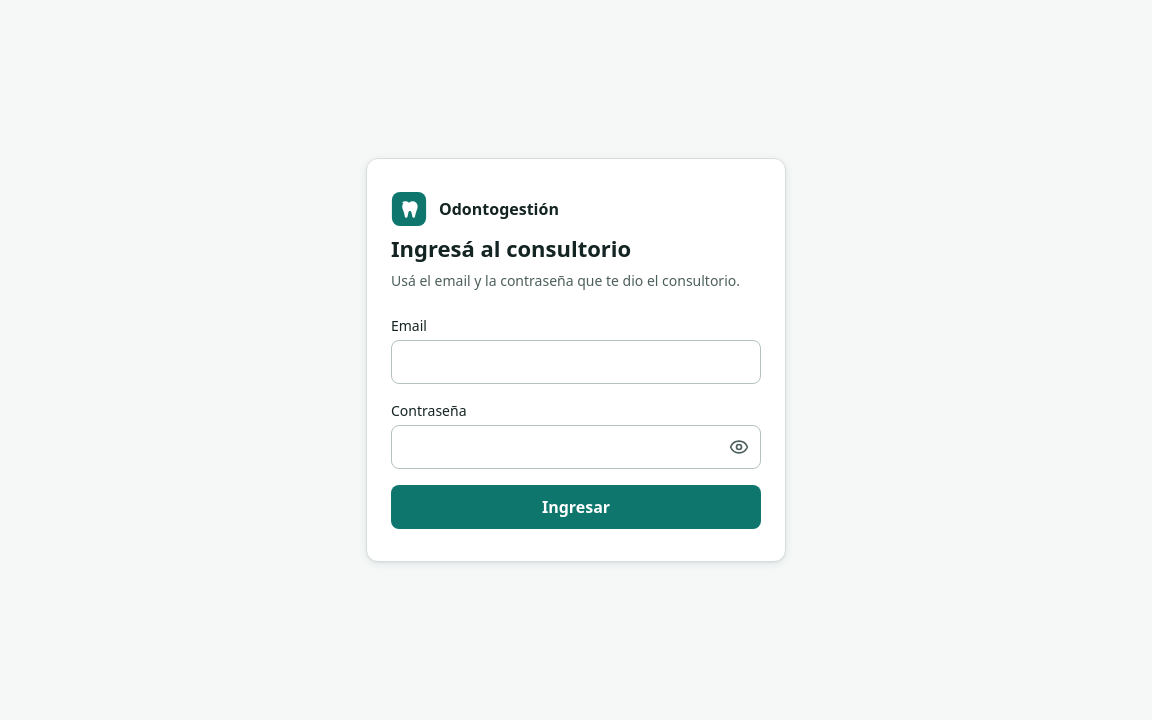
Test: sesion y guards › al ingresar vuelve a la ruta pedida
Type "dra.ficticia@consultorio.test" into the field labelled "Email".
click(576, 362); type("dra.ficticia@consultorio.test")  # box [391,340,761,384]
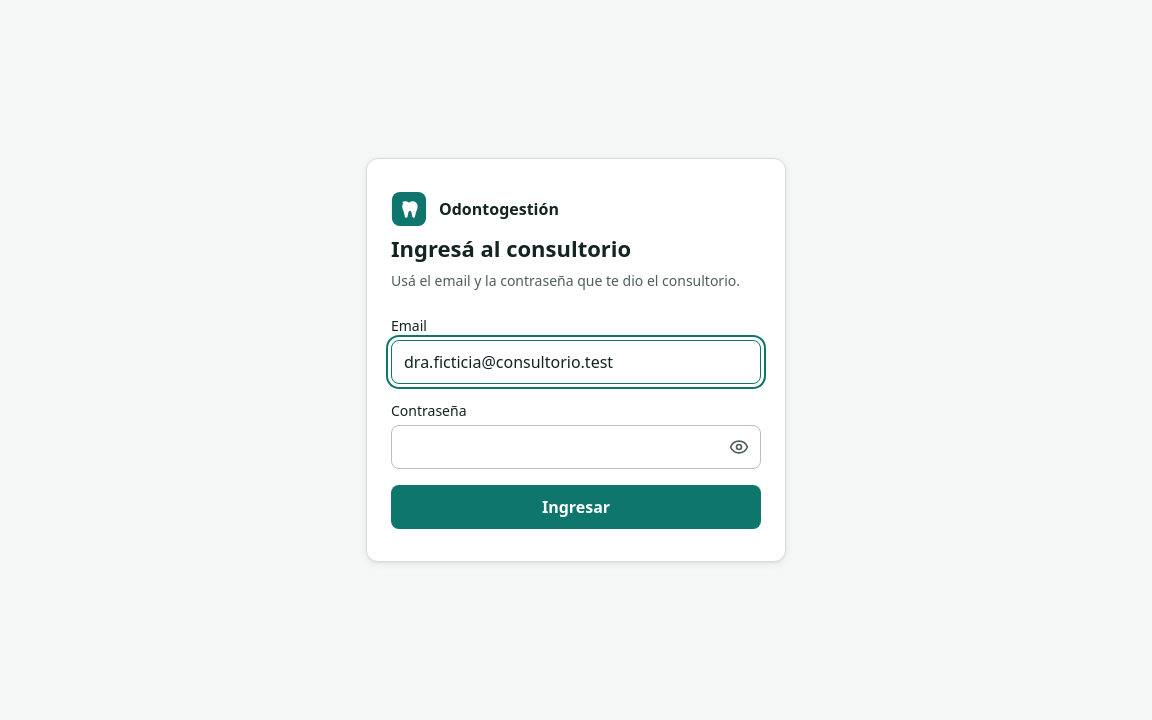
Type "una-clave-larga" into the password field labelled "Contraseña".
click(576, 447); type("una-clave-larga")  # box [391,425,761,469]
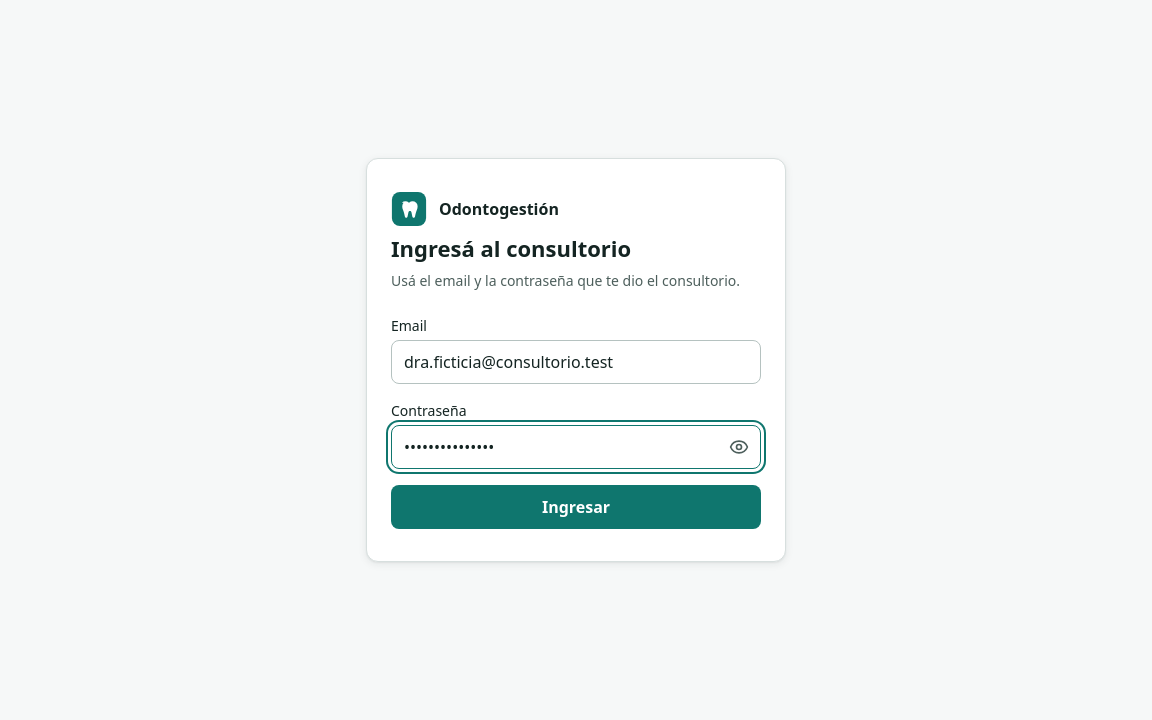
Click the button "Ingresar".
click(576, 507)  # box [391,485,761,529]
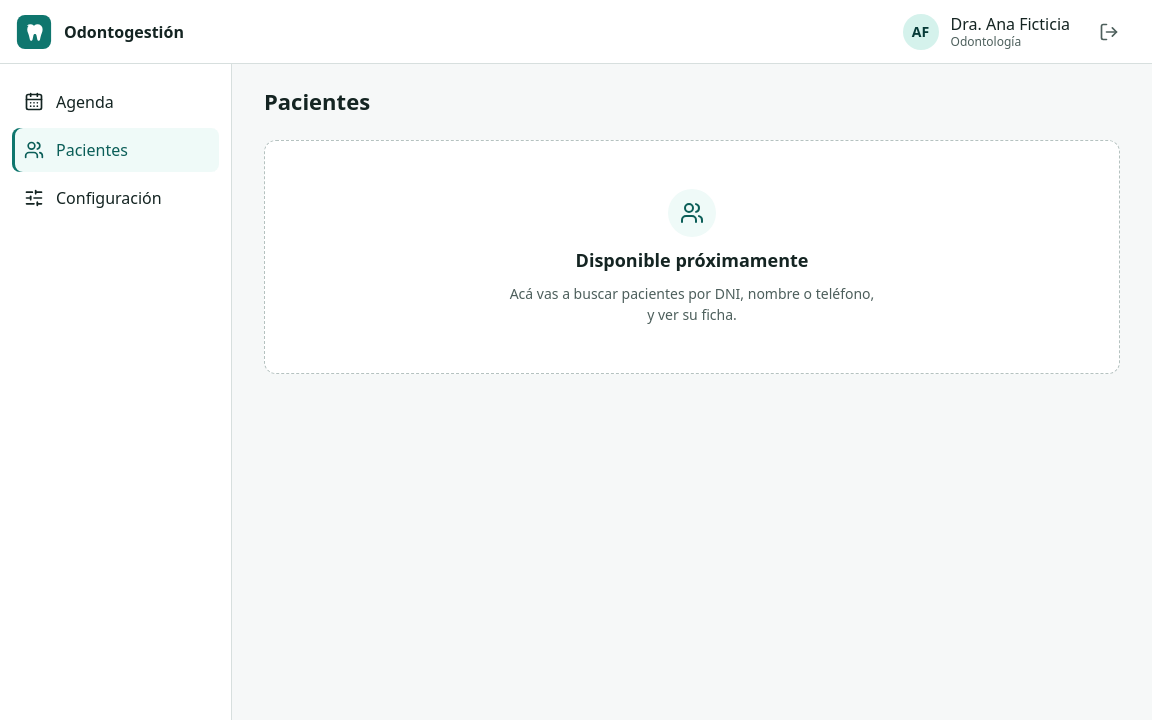
expect the heading "Pacientes" is shown: met, box [264,86,370,116]
